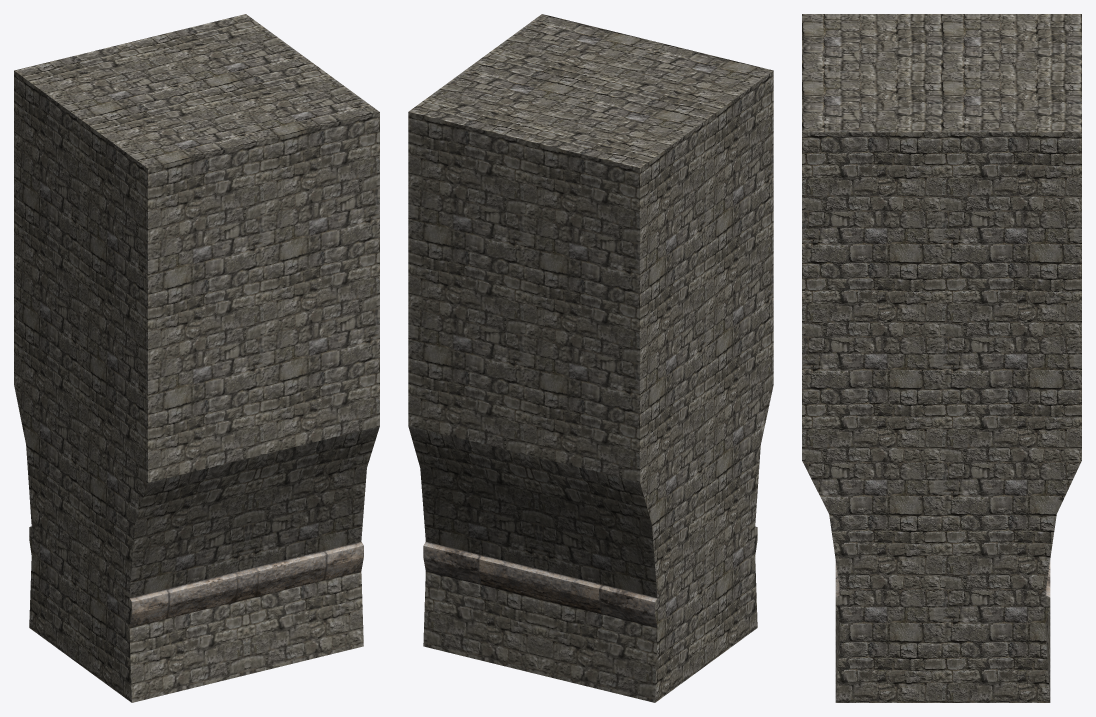
Rendered from StoneBridge_SupportCenter.dae.
3 renders of one model, left to right at view 1: azimuth 30°, elevation 25°; view 2: azimuth 150°, elevation 25°; view 3: azimuth 270°, elevation 25°, orthographic. The views are drawn at different scales.
Parts seen in each view (by area): view 1: SupportDoubleCenter, SupportDoubleCenter2; view 2: SupportDoubleCenter, SupportDoubleCenter2; view 3: SupportDoubleCenter.
Part boxes in pixels (left/top/right/bottom): SupportDoubleCenter: left=14, top=14, right=379, bottom=702; SupportDoubleCenter2: left=129, top=426, right=379, bottom=627; SupportDoubleCenter: left=408, top=14, right=773, bottom=702; SupportDoubleCenter2: left=408, top=426, right=657, bottom=627; SupportDoubleCenter: left=802, top=14, right=1081, bottom=702.
Bounding box in the file's own units: 4 × 9 × 4.
Materials: 2 (2 with a texture image).
